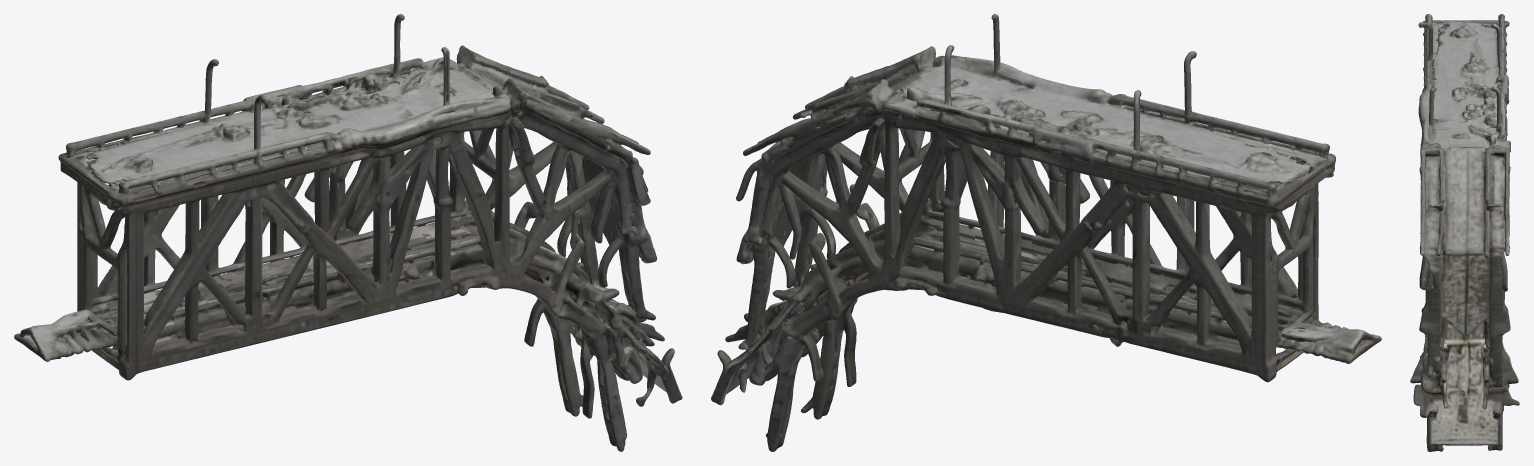
Rendered from qiantang-truss-v1.glb.
The picture shows the model from 3 angles, left to right: view 1: azimuth 30°, elevation 25°; view 2: azimuth 150°, elevation 25°; view 3: azimuth 270°, elevation 25°; orthographic projection. The views are drawn at different scales.
Visible parts, largest first — view 1: geometry_0; view 2: geometry_0; view 3: geometry_0.
Boxes of the visible parts, x1,y1,x2,y2 form: geometry_0: (14,14,682,451); geometry_0: (711,14,1381,451); geometry_0: (1410,14,1519,451).
Size of the model in its own units: 45 by 30.67 by 9.88.
1 material, 1 textured.
